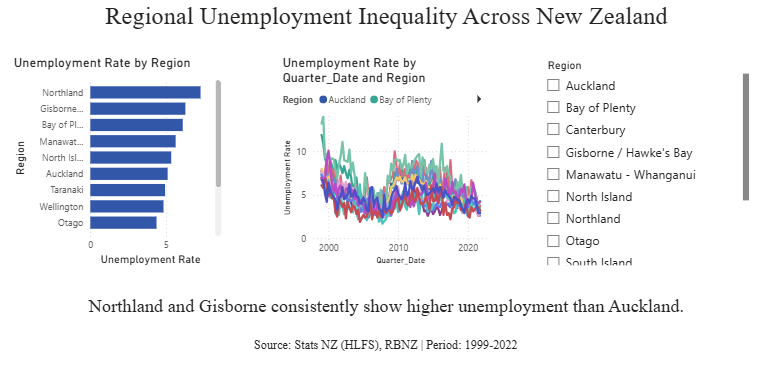

The dashboard page shown, as its layout file describes it:
{"tool":"powerbi","page":{"name":"Regional View","canvas":[1280,720],"ordinal":2},"visuals":[{"type":"clusteredBarChart","fields":{"Category":["cleaned_unemployed_data.Region"],"Y":["cleaned_unemployed_data.Unemployment Rate"]},"box":[132.3,184.5,280.9,279.3],"z":0},{"type":"lineChart","fields":{"Category":["cleaned_unemployed_data.Quarter_Date"],"Y":["cleaned_unemployed_data.Unemployment Rate"],"Series":["cleaned_unemployed_data.Region"]},"box":[483.4,184.5,280.9,279.3],"z":1},{"type":"slicer","fields":{"Values":["cleaned_unemployed_data.Region"]},"box":[821.4,184.5,280.9,279.3],"z":2},{"type":"textbox","box":[245,109.4,757.7,47.4],"z":3},{"type":"textbox","box":[372.3,548.7,501.4,39.2],"z":4},{"type":"textbox","box":[204.1,493.2,839.4,39.2],"z":5}]}

Visuals, with their boxes on the page's 1280x720 design canvas (x1, y1, x2, y2). These are canvas units, not pixel positions in the 757x365 screenshot, which may show the page scaled, cropped or inside an application window:
clusteredBarChart - cleaned_unemployed_data.Region x cleaned_unemployed_data.Unemployment Rate: {"left": 132, "top": 184, "right": 413, "bottom": 464}
lineChart - cleaned_unemployed_data.Quarter_Date x cleaned_unemployed_data.Unemployment Rate: {"left": 483, "top": 184, "right": 764, "bottom": 464}
slicer - cleaned_unemployed_data.Region: {"left": 821, "top": 184, "right": 1102, "bottom": 464}
textbox: {"left": 245, "top": 109, "right": 1003, "bottom": 157}
textbox: {"left": 372, "top": 549, "right": 874, "bottom": 588}
textbox: {"left": 204, "top": 493, "right": 1044, "bottom": 532}
